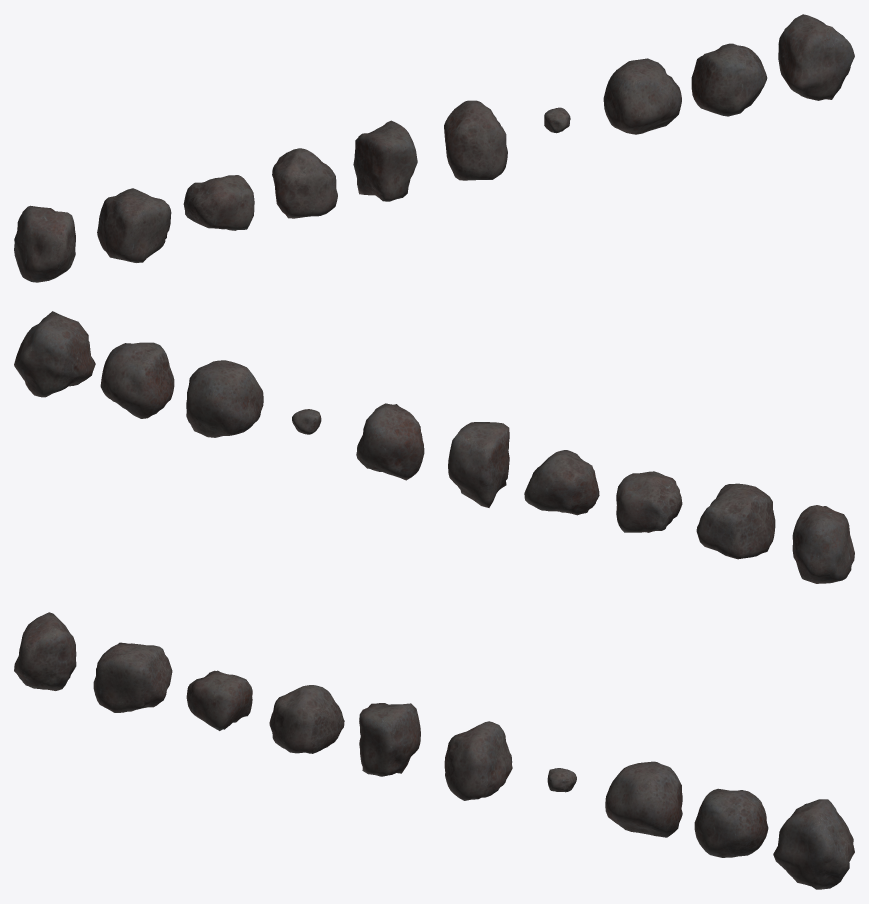
The model's file is meteorites.glb.
The picture shows the model from 3 angles, top to bottom: view 1: azimuth 30°, elevation 25°; view 2: azimuth 150°, elevation 25°; view 3: azimuth 330°, elevation 25°; orthographic projection.
Visible parts, largest first — view 1: Lp10, Lp08, Lp02, Lp09, Lp06, Lp05, Lp01, Lp04, Lp03, Lp07; view 2: Lp08, Lp10, Lp02, Lp09, Lp05, Lp01, Lp06, Lp04, Lp03, Lp07; view 3: Lp10, Lp08, Lp02, Lp09, Lp06, Lp04, Lp05, Lp01, Lp03, Lp07.
Boxes of the visible parts, left/top/right/bottom form: Lp10: left=778, top=14, right=854, bottom=100; Lp08: left=603, top=58, right=681, bottom=134; Lp02: left=97, top=188, right=171, bottom=262; Lp09: left=691, top=43, right=767, bottom=116; Lp06: left=444, top=100, right=507, bottom=180; Lp05: left=353, top=120, right=417, bottom=201; Lp01: left=14, top=205, right=75, bottom=282; Lp04: left=272, top=148, right=337, bottom=218; Lp03: left=183, top=175, right=254, bottom=230; Lp07: left=544, top=107, right=570, bottom=133; Lp08: left=186, top=360, right=263, bottom=437; Lp10: left=14, top=311, right=95, bottom=397; Lp02: left=696, top=483, right=775, bottom=559; Lp09: left=100, top=342, right=174, bottom=418; Lp05: left=448, top=422, right=509, bottom=507; Lp01: left=792, top=505, right=854, bottom=583; Lp06: left=356, top=403, right=424, bottom=480; Lp04: left=524, top=450, right=599, bottom=515; Lp03: left=616, top=471, right=682, bottom=532; Lp07: left=292, top=409, right=321, bottom=434; Lp10: left=773, top=799, right=854, bottom=889; Lp08: left=605, top=761, right=682, bottom=837; Lp02: left=93, top=642, right=172, bottom=712; Lp09: left=694, top=788, right=768, bottom=857; Lp06: left=444, top=721, right=512, bottom=800; Lp04: left=269, top=685, right=344, bottom=753; Lp05: left=359, top=703, right=420, bottom=776; Lp01: left=14, top=612, right=76, bottom=690; Lp03: left=186, top=670, right=252, bottom=730; Lp07: left=547, top=768, right=576, bottom=792.
Bounding box in the file's own units: 97.07 × 8.84 × 7.63.
Materials: 1 (1 with a texture image).
